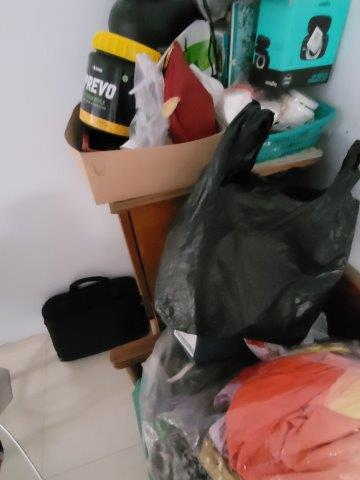plastik: (155, 107, 360, 353), (127, 56, 169, 153)
